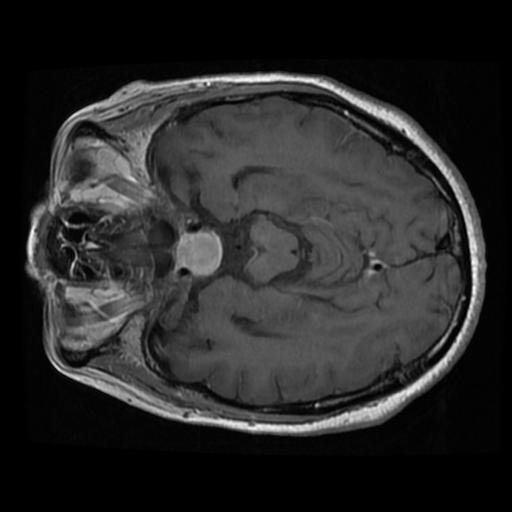pituitary tumour: (176, 230, 222, 278)
